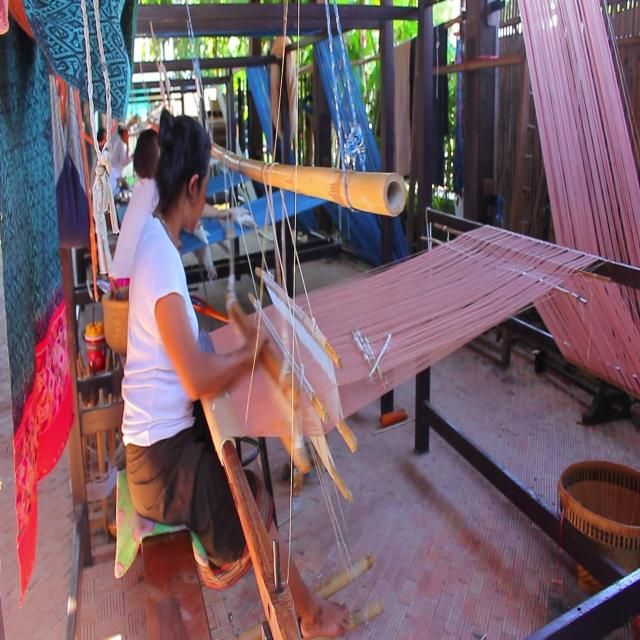not-gloved: (228, 298, 269, 365)
